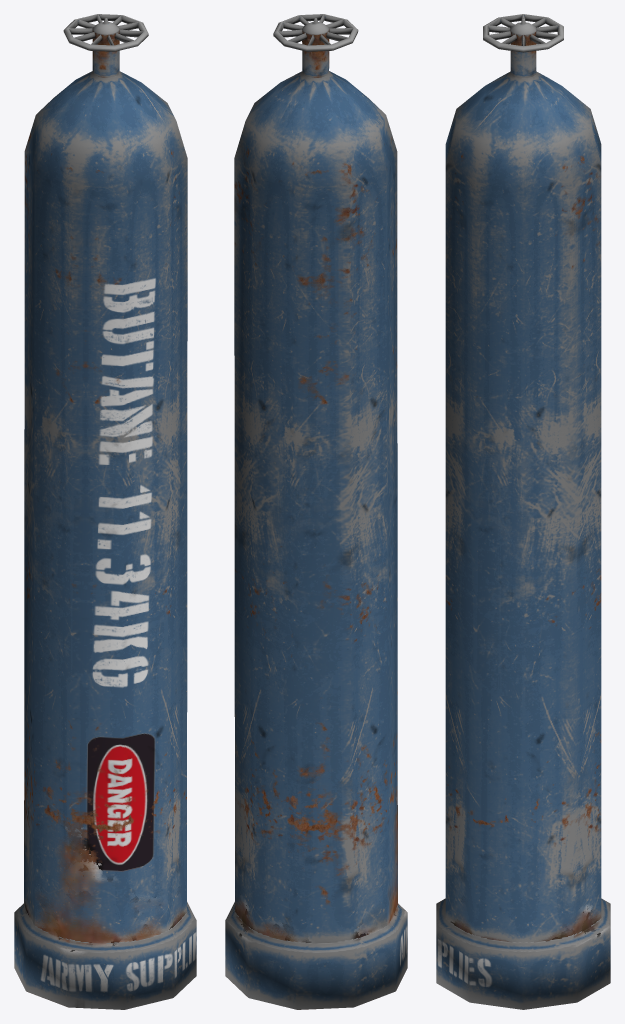
File: gBottle2.fbx
The picture shows the model from 3 angles, left to right: view 1: azimuth 30°, elevation 25°; view 2: azimuth 150°, elevation 25°; view 3: azimuth 270°, elevation 25°; orthographic projection.
Parts seen in each view (by area): view 1: gBottle2_LOD0; view 2: gBottle2_LOD0; view 3: gBottle2_LOD0.
Boxes of the visible parts, <box> form: gBottle2_LOD0: <box>14,14,196,1009</box>; gBottle2_LOD0: <box>225,14,407,1009</box>; gBottle2_LOD0: <box>436,14,610,1009</box>.
Size of what is drawn, in the model's own units: 17.9 by 103 by 17.02.
